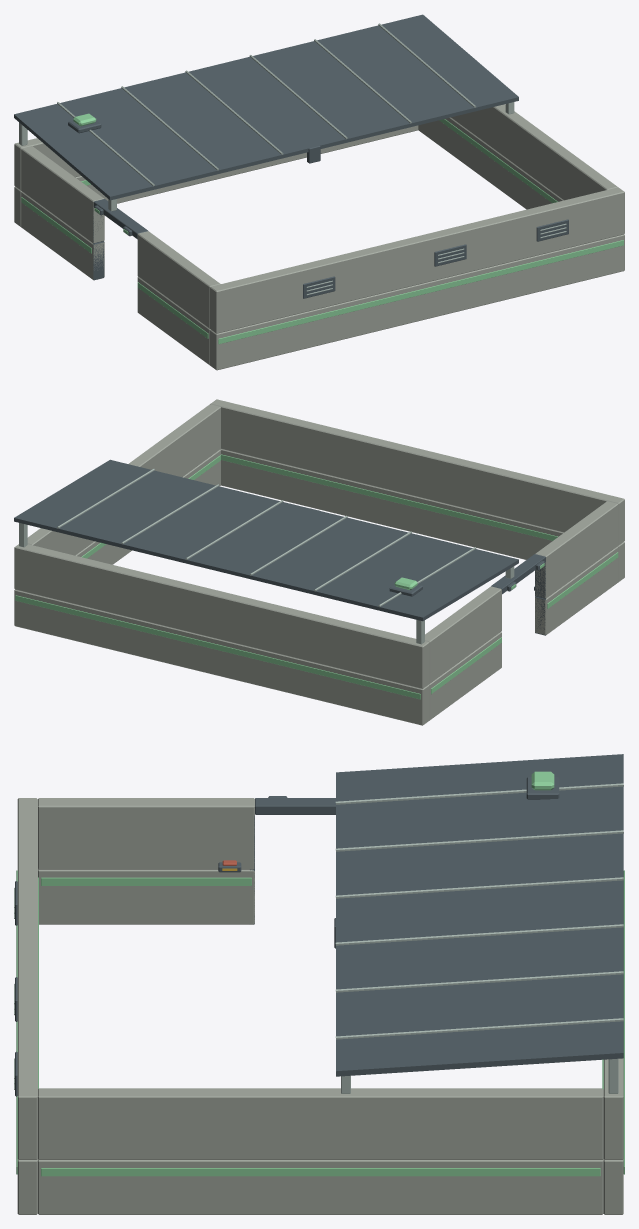
File: safehouse.glb
The picture shows the model from 3 angles, top to bottom: view 1: azimuth 30°, elevation 25°; view 2: azimuth 150°, elevation 25°; view 3: azimuth 270°, elevation 25°; orthographic projection. The views are drawn at different scales.
Parts seen in each view (by area): view 1: Occlude_Walls_Mesh, Keep_Mesh; view 2: Occlude_Walls_Mesh, Keep_Mesh; view 3: Occlude_Walls_Mesh, Keep_Mesh.
Boxes of the visible parts, x1,y1,x2,y2 form: Occlude_Walls_Mesh: [14, 14, 624, 333]; Keep_Mesh: [14, 117, 624, 370]; Occlude_Walls_Mesh: [14, 399, 624, 688]; Keep_Mesh: [14, 449, 624, 725]; Occlude_Walls_Mesh: [14, 754, 623, 1159]; Keep_Mesh: [16, 860, 624, 1214].
Bounding box in the file's own units: 14.16 × 3.75 × 12.1.
